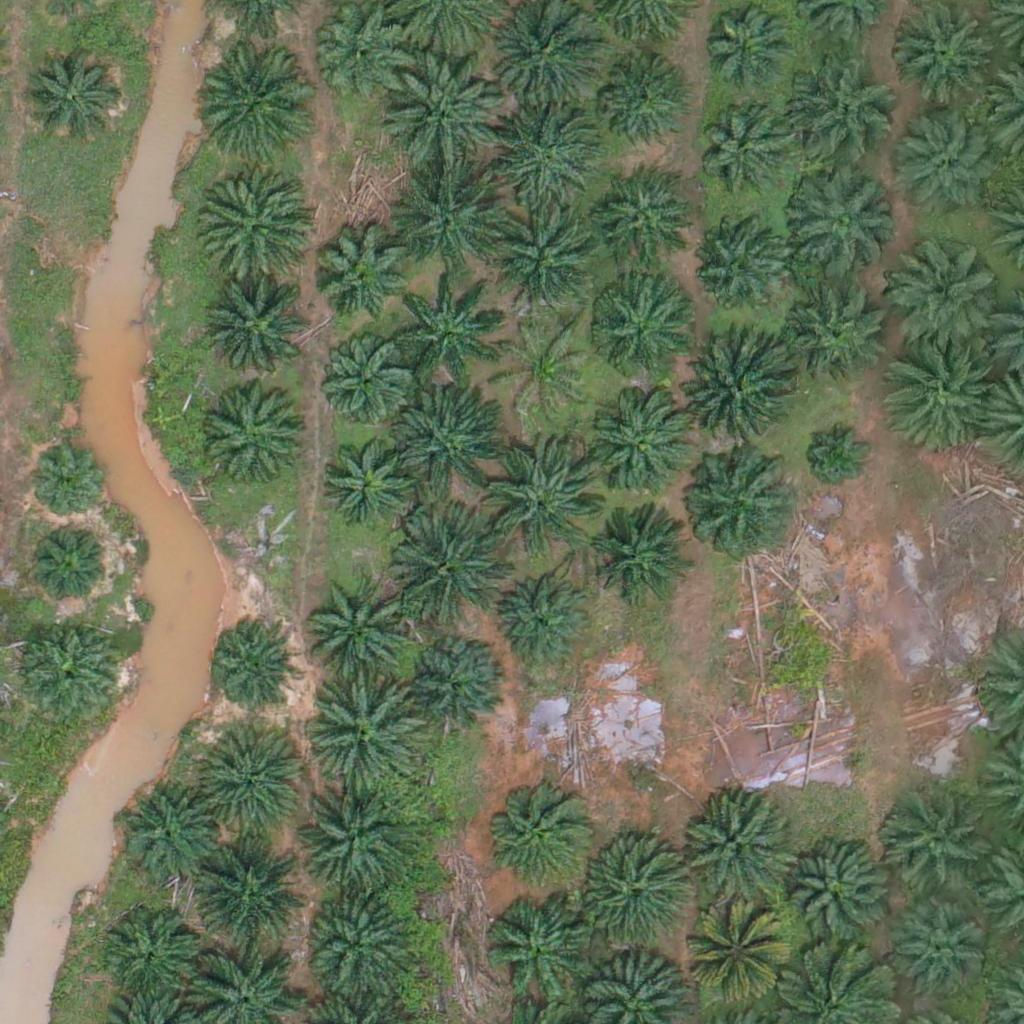Kelapa_Sawit: (305, 883, 418, 997), (393, 511, 506, 625), (296, 788, 409, 902), (194, 724, 307, 838), (200, 42, 313, 156), (482, 898, 595, 1011), (884, 107, 997, 220), (884, 226, 997, 339), (876, 340, 989, 453), (776, 837, 889, 950), (781, 167, 894, 280), (680, 336, 793, 449), (394, 385, 507, 498), (384, 59, 497, 172), (196, 166, 309, 279), (588, 386, 700, 500), (489, 97, 601, 211), (490, 210, 602, 324), (483, 775, 595, 889), (193, 832, 305, 946), (203, 275, 315, 389), (876, 788, 988, 901), (679, 794, 791, 907), (569, 838, 681, 951), (788, 50, 900, 163), (682, 452, 794, 565), (486, 441, 598, 554), (391, 272, 503, 385), (395, 157, 507, 270), (307, 565, 419, 678), (311, 679, 423, 792), (100, 905, 200, 1006), (790, 286, 890, 387), (687, 218, 787, 319), (496, 314, 596, 415), (403, 632, 503, 733), (313, 332, 413, 433), (317, 428, 417, 529), (206, 384, 306, 485), (21, 48, 121, 149), (19, 617, 119, 718), (119, 785, 219, 886), (684, 909, 784, 1009), (589, 505, 689, 605), (593, 176, 693, 276), (586, 277, 686, 377), (492, 578, 592, 678), (310, 225, 410, 325), (313, 2, 413, 102), (698, 105, 786, 193), (595, 59, 683, 147), (701, 2, 789, 90), (896, 911, 983, 999), (207, 618, 294, 706), (26, 520, 113, 608), (29, 447, 104, 523), (800, 415, 875, 490)
